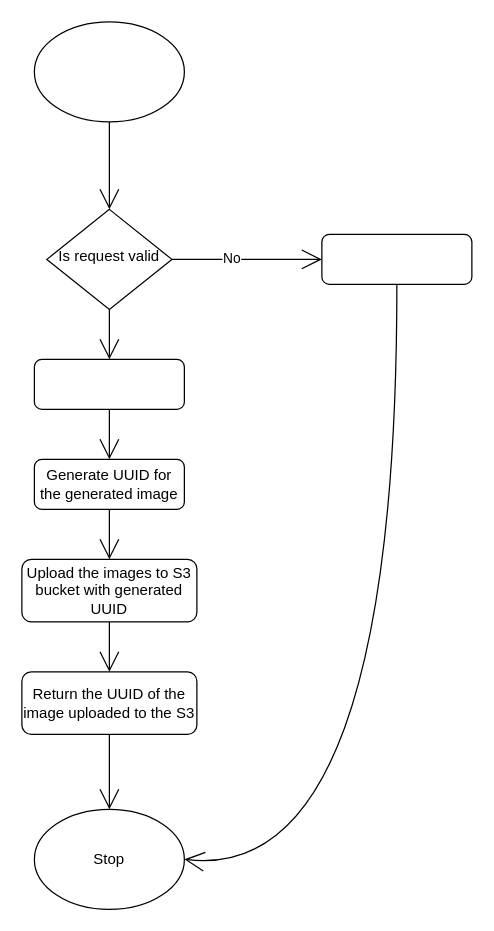
The diagram is 494 pixels wide and 931 high, and some of its shapes have lost their labels. Here are the shapes that lost their labels. From the top down, the centre of each, then its label:
(108,71): Start
(396,258): Report bad request error
(108,383): Render the curve image
